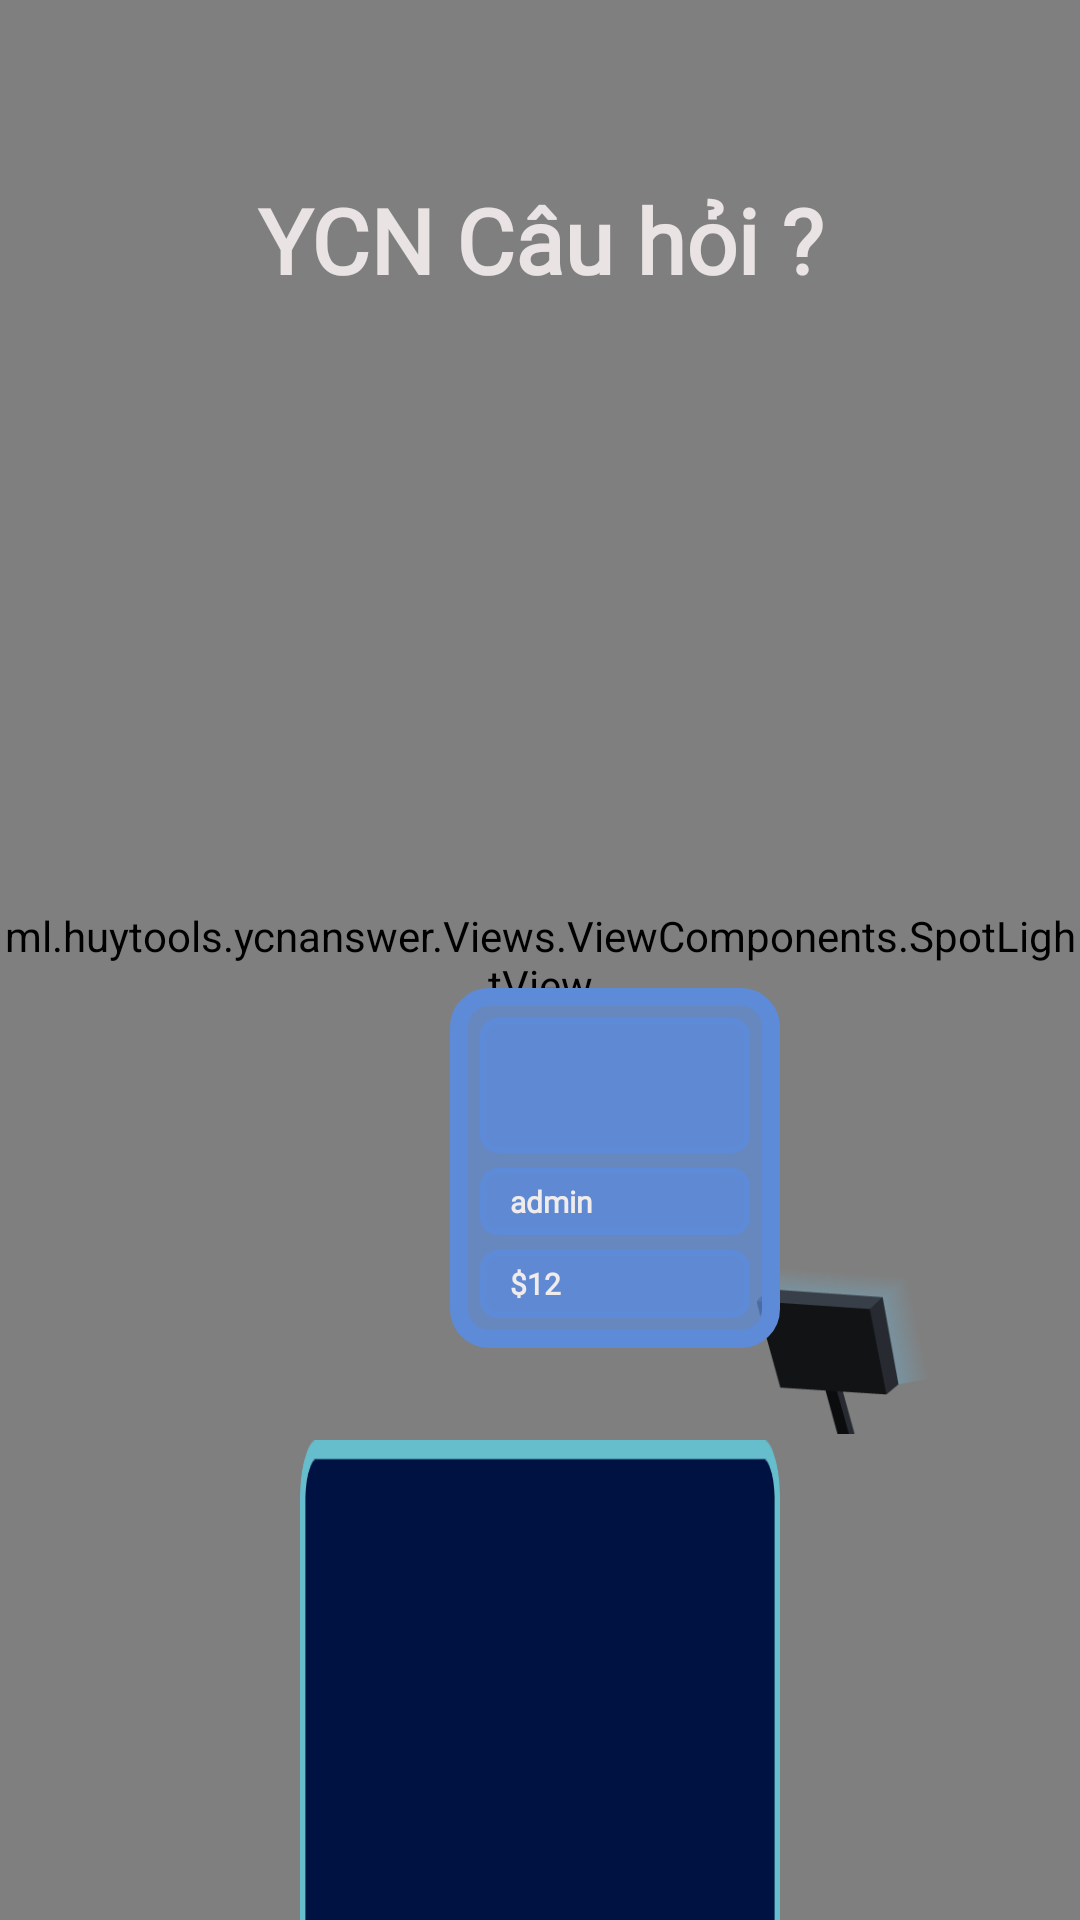

Icons on this 1080x1920 Android screen, each with its box as rect(x1, y1, x2, y2):
sprite pc: rect(756, 1266, 906, 1434)
